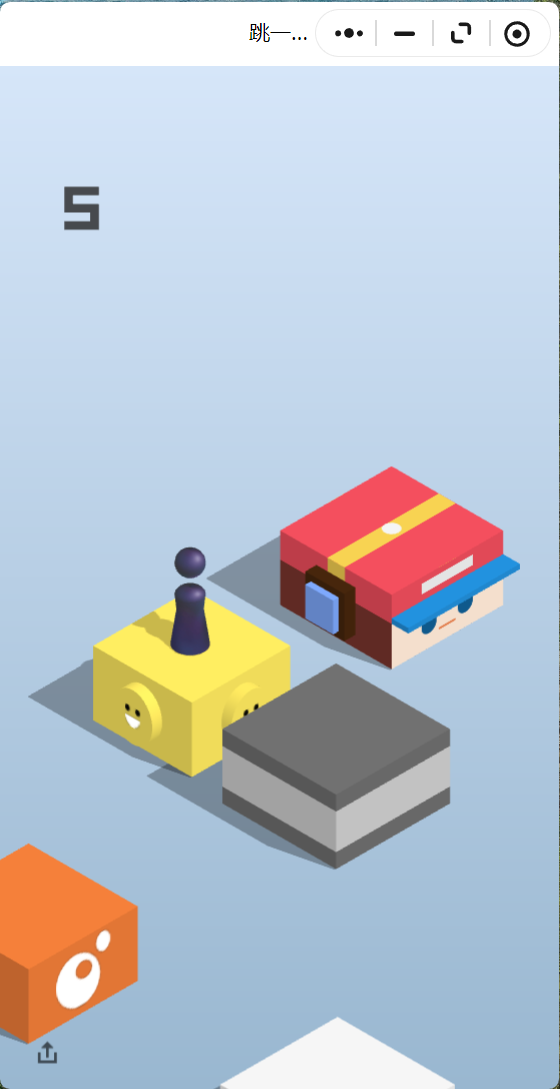piece: (175, 547, 205, 651)
target: (280, 466, 503, 595)
